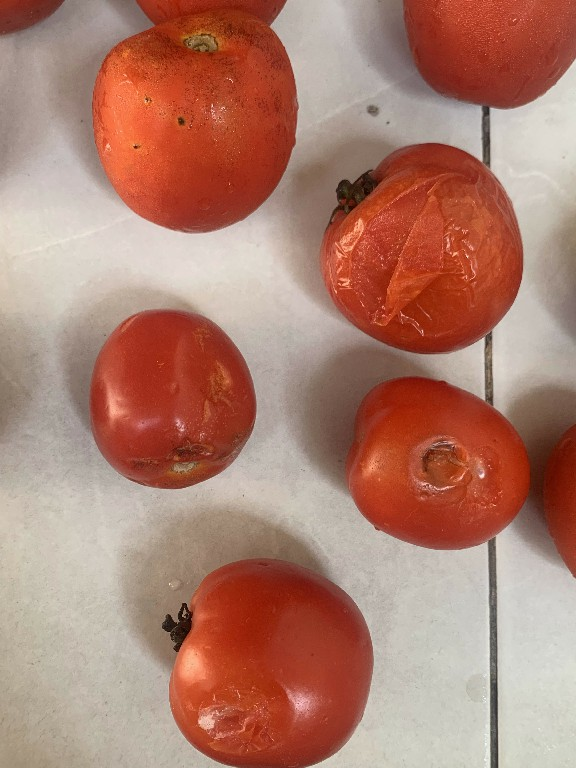NG: (88, 6, 303, 251), (305, 141, 542, 361), (152, 549, 387, 762), (69, 292, 271, 499), (345, 376, 536, 554)
